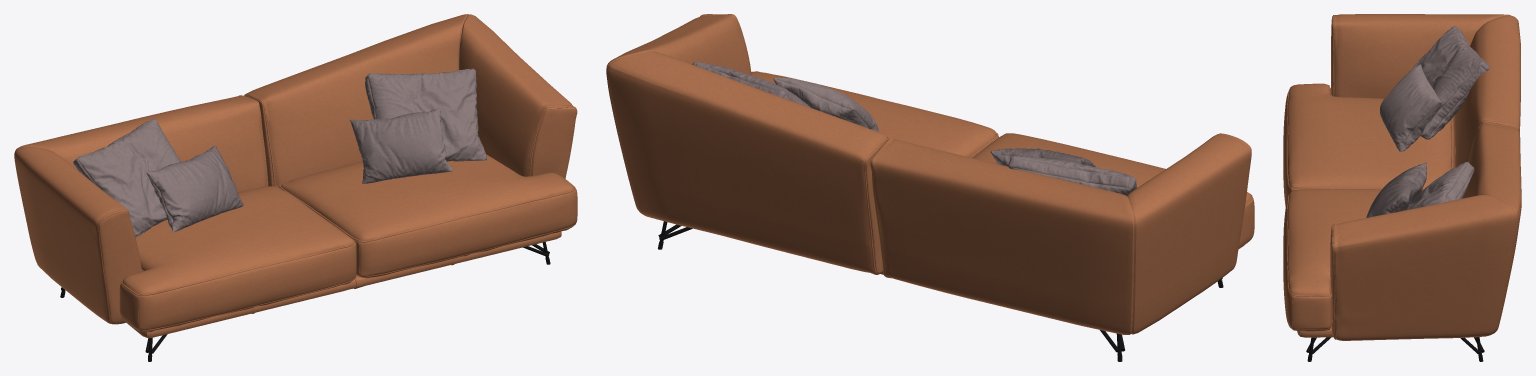
File: lennox.gltf
3 views of the same model, side by side, from view 1: azimuth 30°, elevation 25°; view 2: azimuth 150°, elevation 25°; view 3: azimuth 270°, elevation 25° (orthographic). The views are drawn at different scales.
Visible parts, largest first — view 1: lennox; view 2: lennox; view 3: lennox.
Boxes of the visible parts, x1,y1,x2,y2 form: lennox: (14, 14, 577, 361); lennox: (606, 14, 1254, 361); lennox: (1283, 14, 1521, 361).
Bounding box in the file's own units: 2.54 × 0.8766 × 1.12.
1 material, 1 textured.
